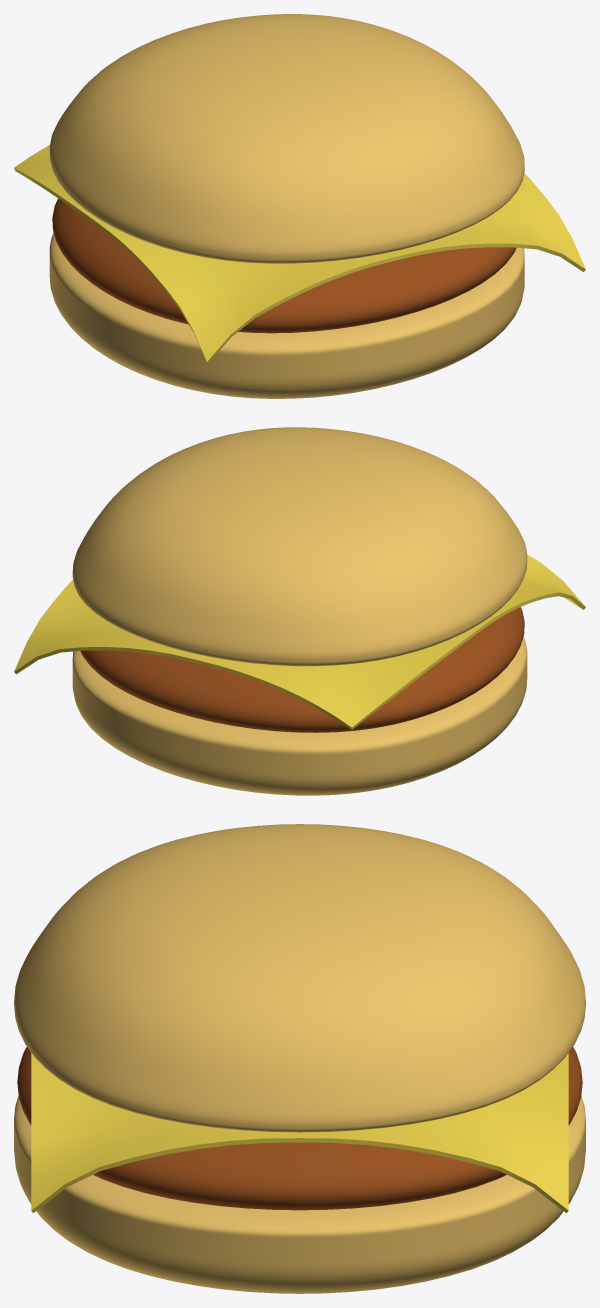
The model's file is hamburger.glb.
3 renders of one model, top to bottom at view 1: azimuth 30°, elevation 25°; view 2: azimuth 150°, elevation 25°; view 3: azimuth 270°, elevation 25°, orthographic. The views are drawn at different scales.
Parts seen in each view (by area): view 1: Cube.002, Cube, Plane, Cube.001; view 2: Cube.002, Cube, Cube.001, Plane; view 3: Cube.002, Cube, Plane, Cube.001.
Boxes of the visible parts, x1,y1,x2,y2 form: Cube.002: [49, 14, 524, 263]; Cube: [49, 233, 524, 398]; Plane: [14, 145, 585, 363]; Cube.001: [52, 198, 516, 333]; Cube.002: [72, 427, 527, 666]; Cube: [72, 637, 527, 795]; Cube.001: [80, 607, 524, 732]; Plane: [14, 555, 585, 730]; Cube.002: [14, 824, 585, 1132]; Cube: [14, 1096, 585, 1293]; Plane: [31, 1053, 568, 1212]; Cube.001: [17, 1047, 582, 1210].
Size of the model in its own units: 9.29 by 6.01 by 9.29.
